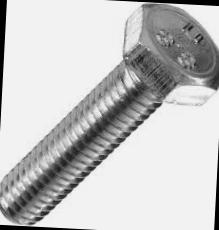hexagonal: (119, 1, 219, 106)
